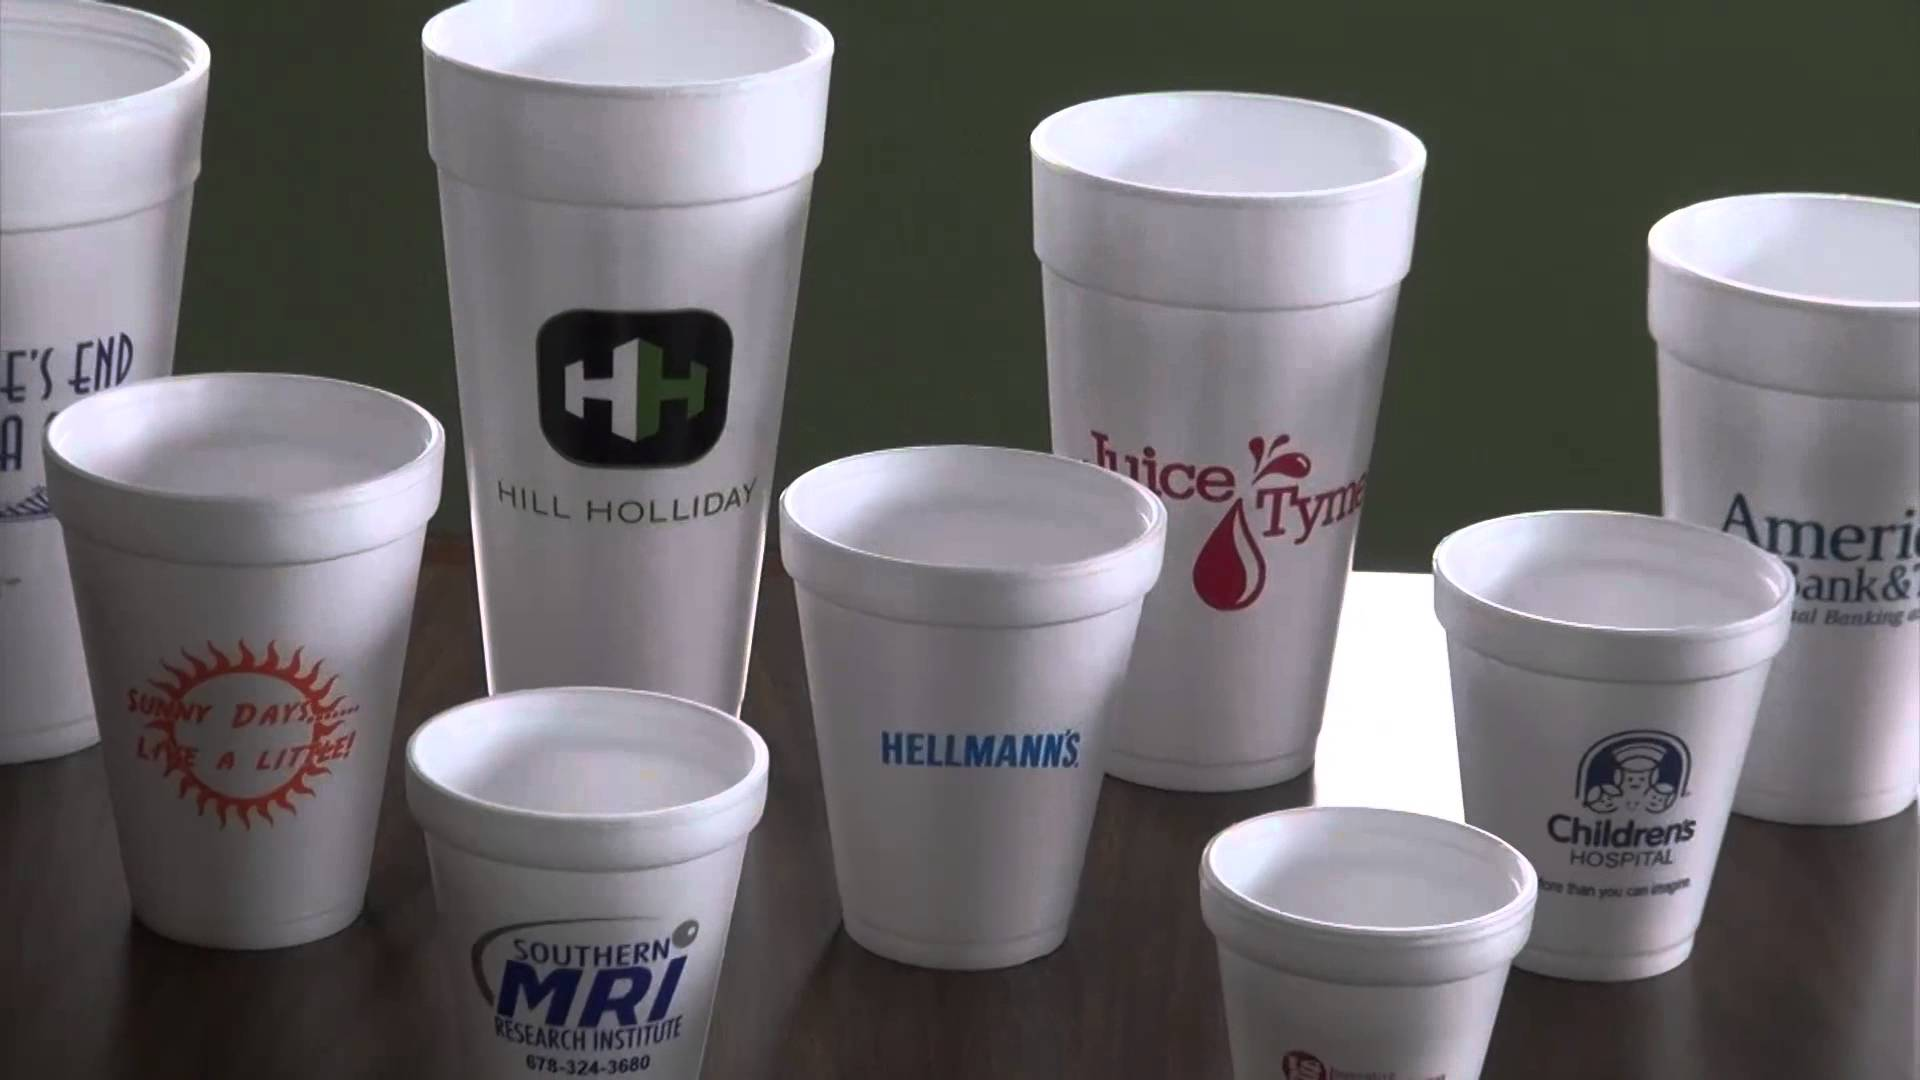Nonrec_Plastic: (1011, 40, 1419, 832), (411, 8, 831, 705), (36, 361, 439, 978), (1619, 164, 1920, 881), (790, 411, 1151, 1002), (1429, 454, 1789, 997), (3, 1, 216, 758), (411, 670, 754, 1075), (1166, 790, 1600, 1080)
